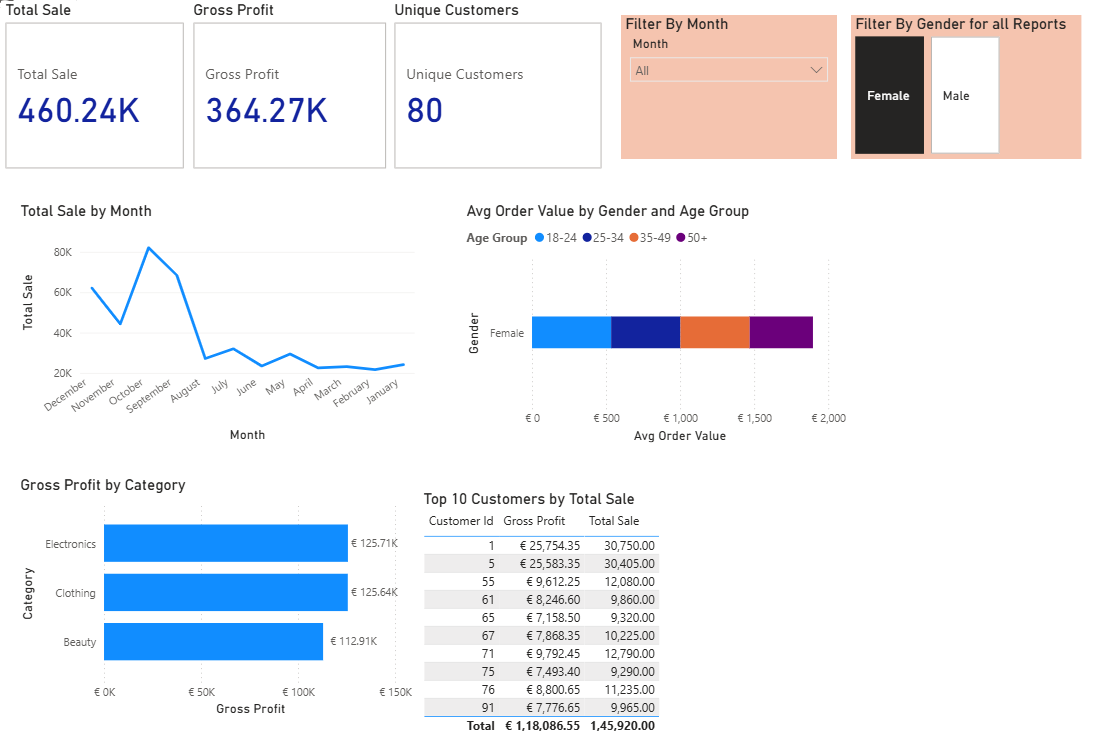

Layout of this report page (visuals, bound fields, positions):
{"tool":"powerbi","page":{"name":"Page 1","canvas":[1600,900],"ordinal":0},"visuals":[{"type":"lineChart","fields":{"Y":["Catergory.Total Sale"],"Category":["Date.Month"]},"box":[32,256,448,272],"z":0},{"type":"actionButton","box":[0,0,100,40],"z":1000},{"type":"barChart","fields":{"Category":["Catergory.Category"],"Y":["Catergory.Gross Profit"]},"box":[48,560,432,272],"z":2000},{"type":"tableEx","fields":{"Values":["Customers.Customer Id","Catergory.Gross Profit","Catergory.Total Sale"]},"box":[480,576,432,288],"z":3000},{"type":"donutChart","fields":{"Category":["Customers.Gender"],"Y":["Catergory.Total Sale"]},"box":[896,592,336,288],"z":4000},{"type":"barChart","fields":{"Category":["Customers.Gender"],"Y":["Catergory.Avg Order Value"],"Series":["Retail Sales Data.Age Group"]},"box":[528,256,432,272],"z":5000},{"type":"cardVisual","title":"Total Revenue","fields":{"Data":["Catergory.Total Sale"]},"box":[16,32,272,192],"z":6000},{"type":"cardVisual","title":"Gross Profit","fields":{"Data":["Catergory.Gross Profit"]},"box":[304,32,272,192],"z":7000},{"type":"cardVisual","title":"Unique Customers","fields":{"Data":["Catergory.Unique Customer"]},"box":[592,32,272,192],"z":8000},{"type":"advancedSlicerVisual","title":"Filter By Gender for all Reports","fields":{"Values":["Customers.Gender"]},"box":[1247.8,64.4,352,160],"z":9000},{"type":"slicer","title":"Filter By Month","fields":{"Values":["Date.Month"]},"box":[879.8,64.4,336,160],"z":10000}]}

Visuals, with their boxes on the page's 1600x900 design canvas (x1, y1, x2, y2). These are canvas units, not pixel positions in the 1098x747 screenshot, which may show the page scaled, cropped or inside an application window:
lineChart - Catergory.Total Sale x Date.Month: Rect(32, 256, 480, 528)
actionButton: Rect(0, 0, 100, 40)
barChart - Catergory.Category x Catergory.Gross Profit: Rect(48, 560, 480, 832)
tableEx - Customers.Customer Id x Catergory.Gross Profit: Rect(480, 576, 912, 864)
donutChart - Customers.Gender x Catergory.Total Sale: Rect(896, 592, 1232, 880)
barChart - Customers.Gender x Catergory.Avg Order Value: Rect(528, 256, 960, 528)
"Total Revenue" cardVisual: Rect(16, 32, 288, 224)
"Gross Profit" cardVisual: Rect(304, 32, 576, 224)
"Unique Customers" cardVisual: Rect(592, 32, 864, 224)
"Filter By Gender for all Reports" advancedSlicerVisual: Rect(1248, 64, 1600, 224)
"Filter By Month" slicer: Rect(880, 64, 1216, 224)
